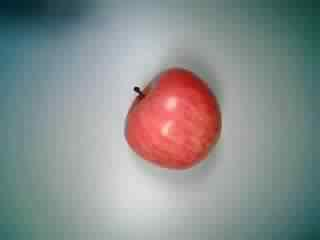apple: (122, 68, 226, 172)
